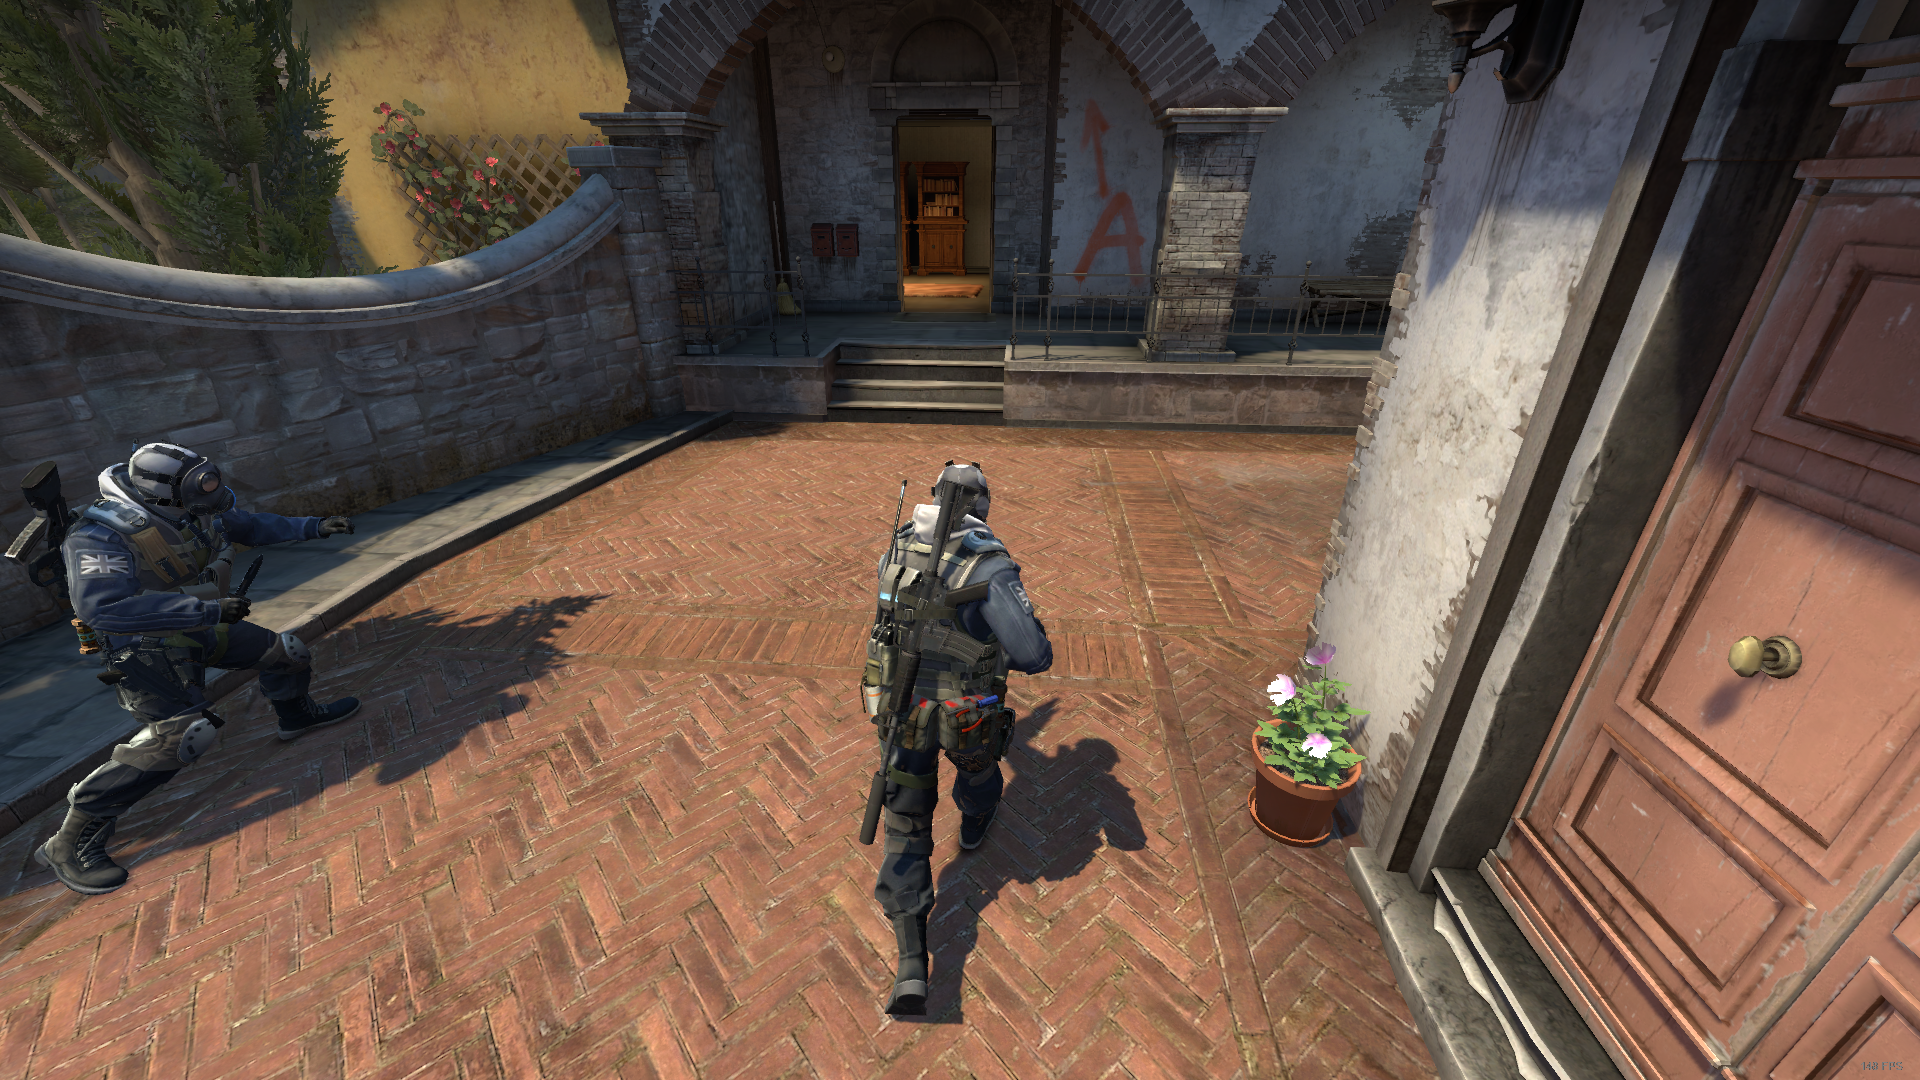ct: (24, 427, 371, 909), (847, 455, 1083, 1011)
